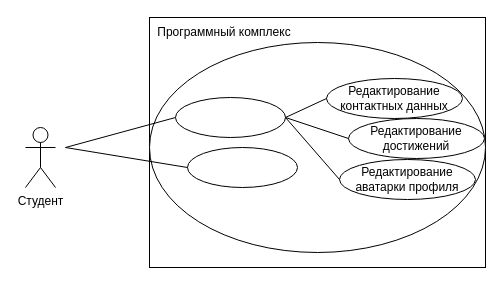
Some shapes in this 503 by 285 pixel diagram are drawn without their labels. The centre of each missing label's shape, as x and y in pixels:
"Авторизация" goes at (230,117).
"Выход из системы" goes at (242,167).
